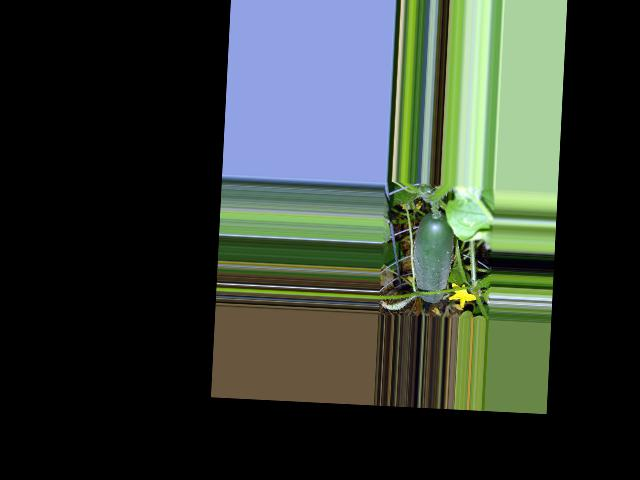cucumber: (410, 210, 454, 303)
